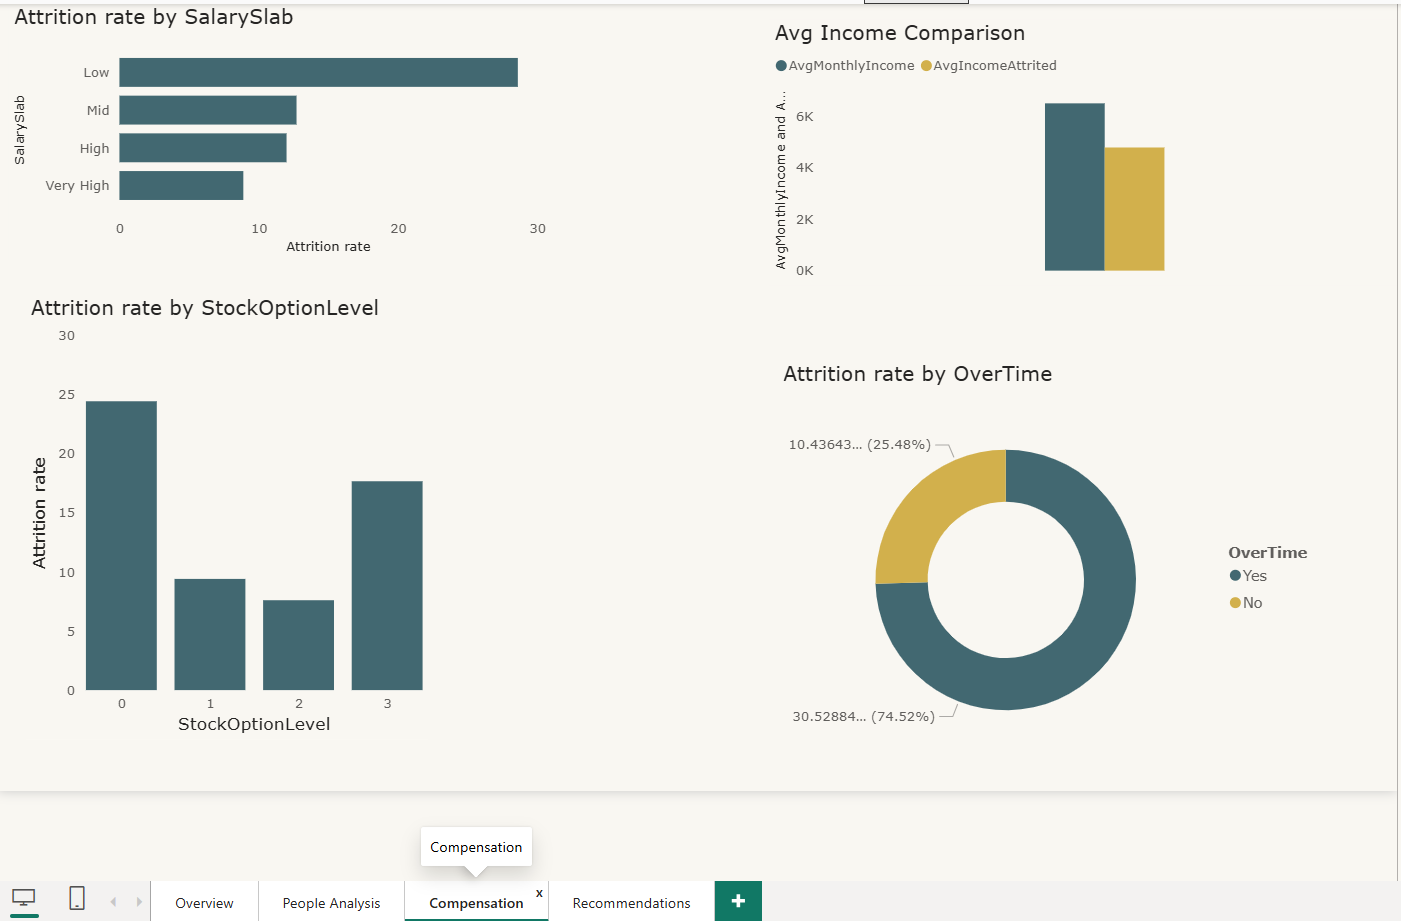

The dashboard page shown, as its layout file describes it:
{"tool":"powerbi","page":{"name":"Compensation","canvas":[1280,720],"ordinal":2},"visuals":[{"type":"clusteredBarChart","fields":{"Category":["Hr_Analytics.SalarySlab"],"Y":["_Measures.Attrition rate"]},"box":[9.9,0,496.3,233.4],"z":0},{"type":"clusteredColumnChart","title":"Avg Income Comparison","fields":{"Y":["_Measures.AvgMonthlyIncome","_Measures.AvgIncomeAttrited"]},"box":[705.6,14.2,574.1,243.2],"z":1000},{"type":"columnChart","fields":{"Category":["Hr_Analytics.StockOptionLevel"],"Y":["_Measures.Attrition rate"]},"box":[25.2,266.2,368.1,406.5],"z":2000},{"type":"donutChart","fields":{"Y":["_Measures.Attrition rate"],"Category":["Hr_Analytics.OverTime"]},"box":[713.3,326.5,504,378],"z":3000}]}

Visuals, with their boxes on the page's 1280x720 design canvas (x1, y1, x2, y2). These are canvas units, not pixel positions in the 1401x921 screenshot, which may show the page scaled, cropped or inside an application window:
clusteredBarChart - Hr_Analytics.SalarySlab x _Measures.Attrition rate: x1=10, y1=0, x2=506, y2=233
"Avg Income Comparison" clusteredColumnChart: x1=706, y1=14, x2=1280, y2=257
columnChart - Hr_Analytics.StockOptionLevel x _Measures.Attrition rate: x1=25, y1=266, x2=393, y2=673
donutChart - _Measures.Attrition rate x Hr_Analytics.OverTime: x1=713, y1=326, x2=1217, y2=704
